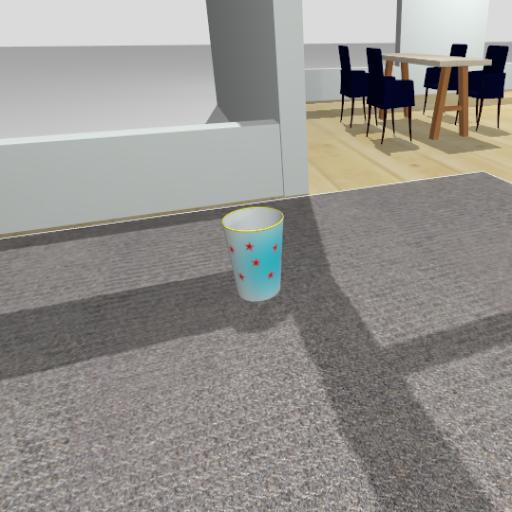Trash: (210, 198, 314, 327)
